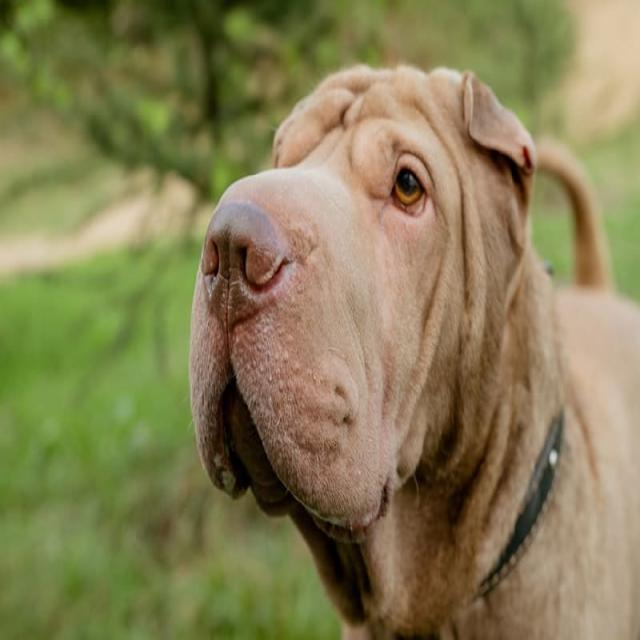fungal infection: (241, 326, 307, 414), (277, 275, 317, 327), (290, 206, 323, 263)
